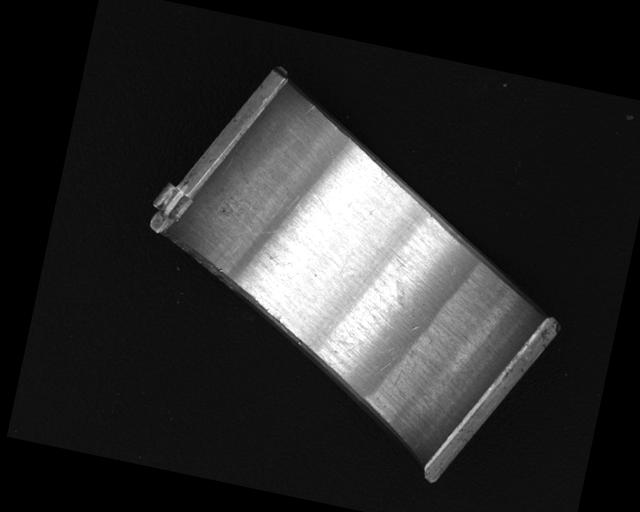nick: (302, 102, 315, 117)
